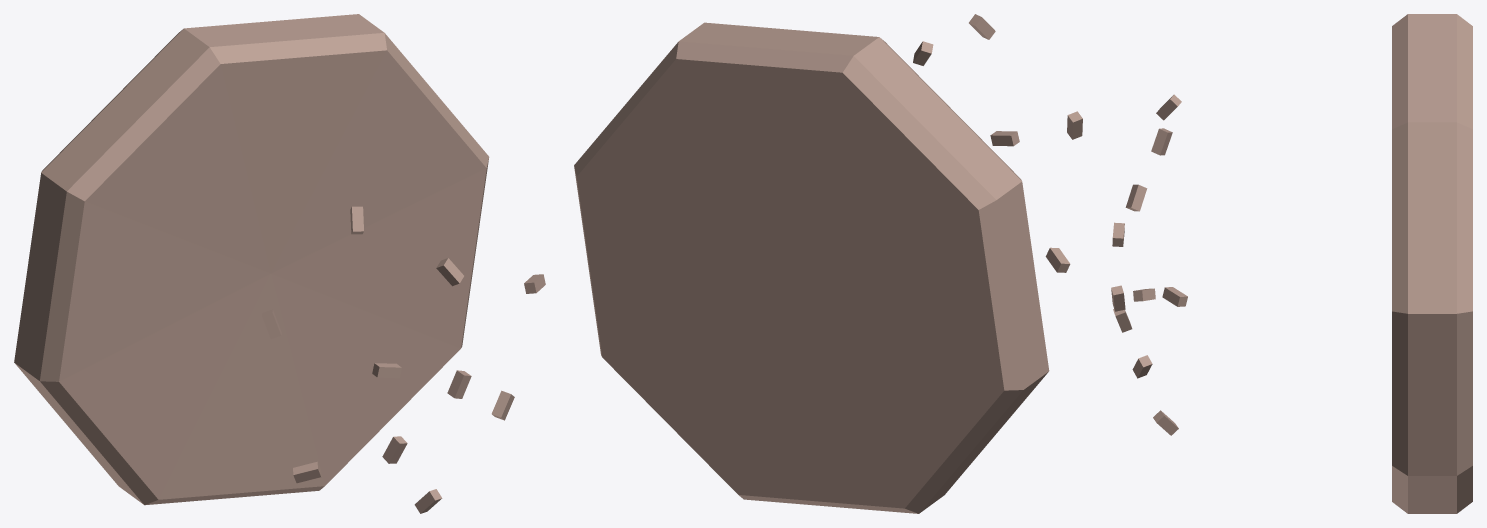
File: patty.glb
The picture shows the model from 3 angles, left to right: view 1: azimuth 30°, elevation 25°; view 2: azimuth 150°, elevation 25°; view 3: azimuth 270°, elevation 25°; orthographic projection. The views are drawn at different scales.
Parts seen in each view (by area): view 1: buffer_0_mesh_0_prim4; view 2: buffer_0_mesh_0_prim4; view 3: buffer_0_mesh_0_prim4.
Part boxes in pixels (x1,y1,x2,y2): buffer_0_mesh_0_prim4: [14, 14, 545, 513]; buffer_0_mesh_0_prim4: [574, 14, 1082, 513]; buffer_0_mesh_0_prim4: [1111, 14, 1472, 513].
Bounding box in the file's own units: 11.59 × 11.59 × 8.47.
